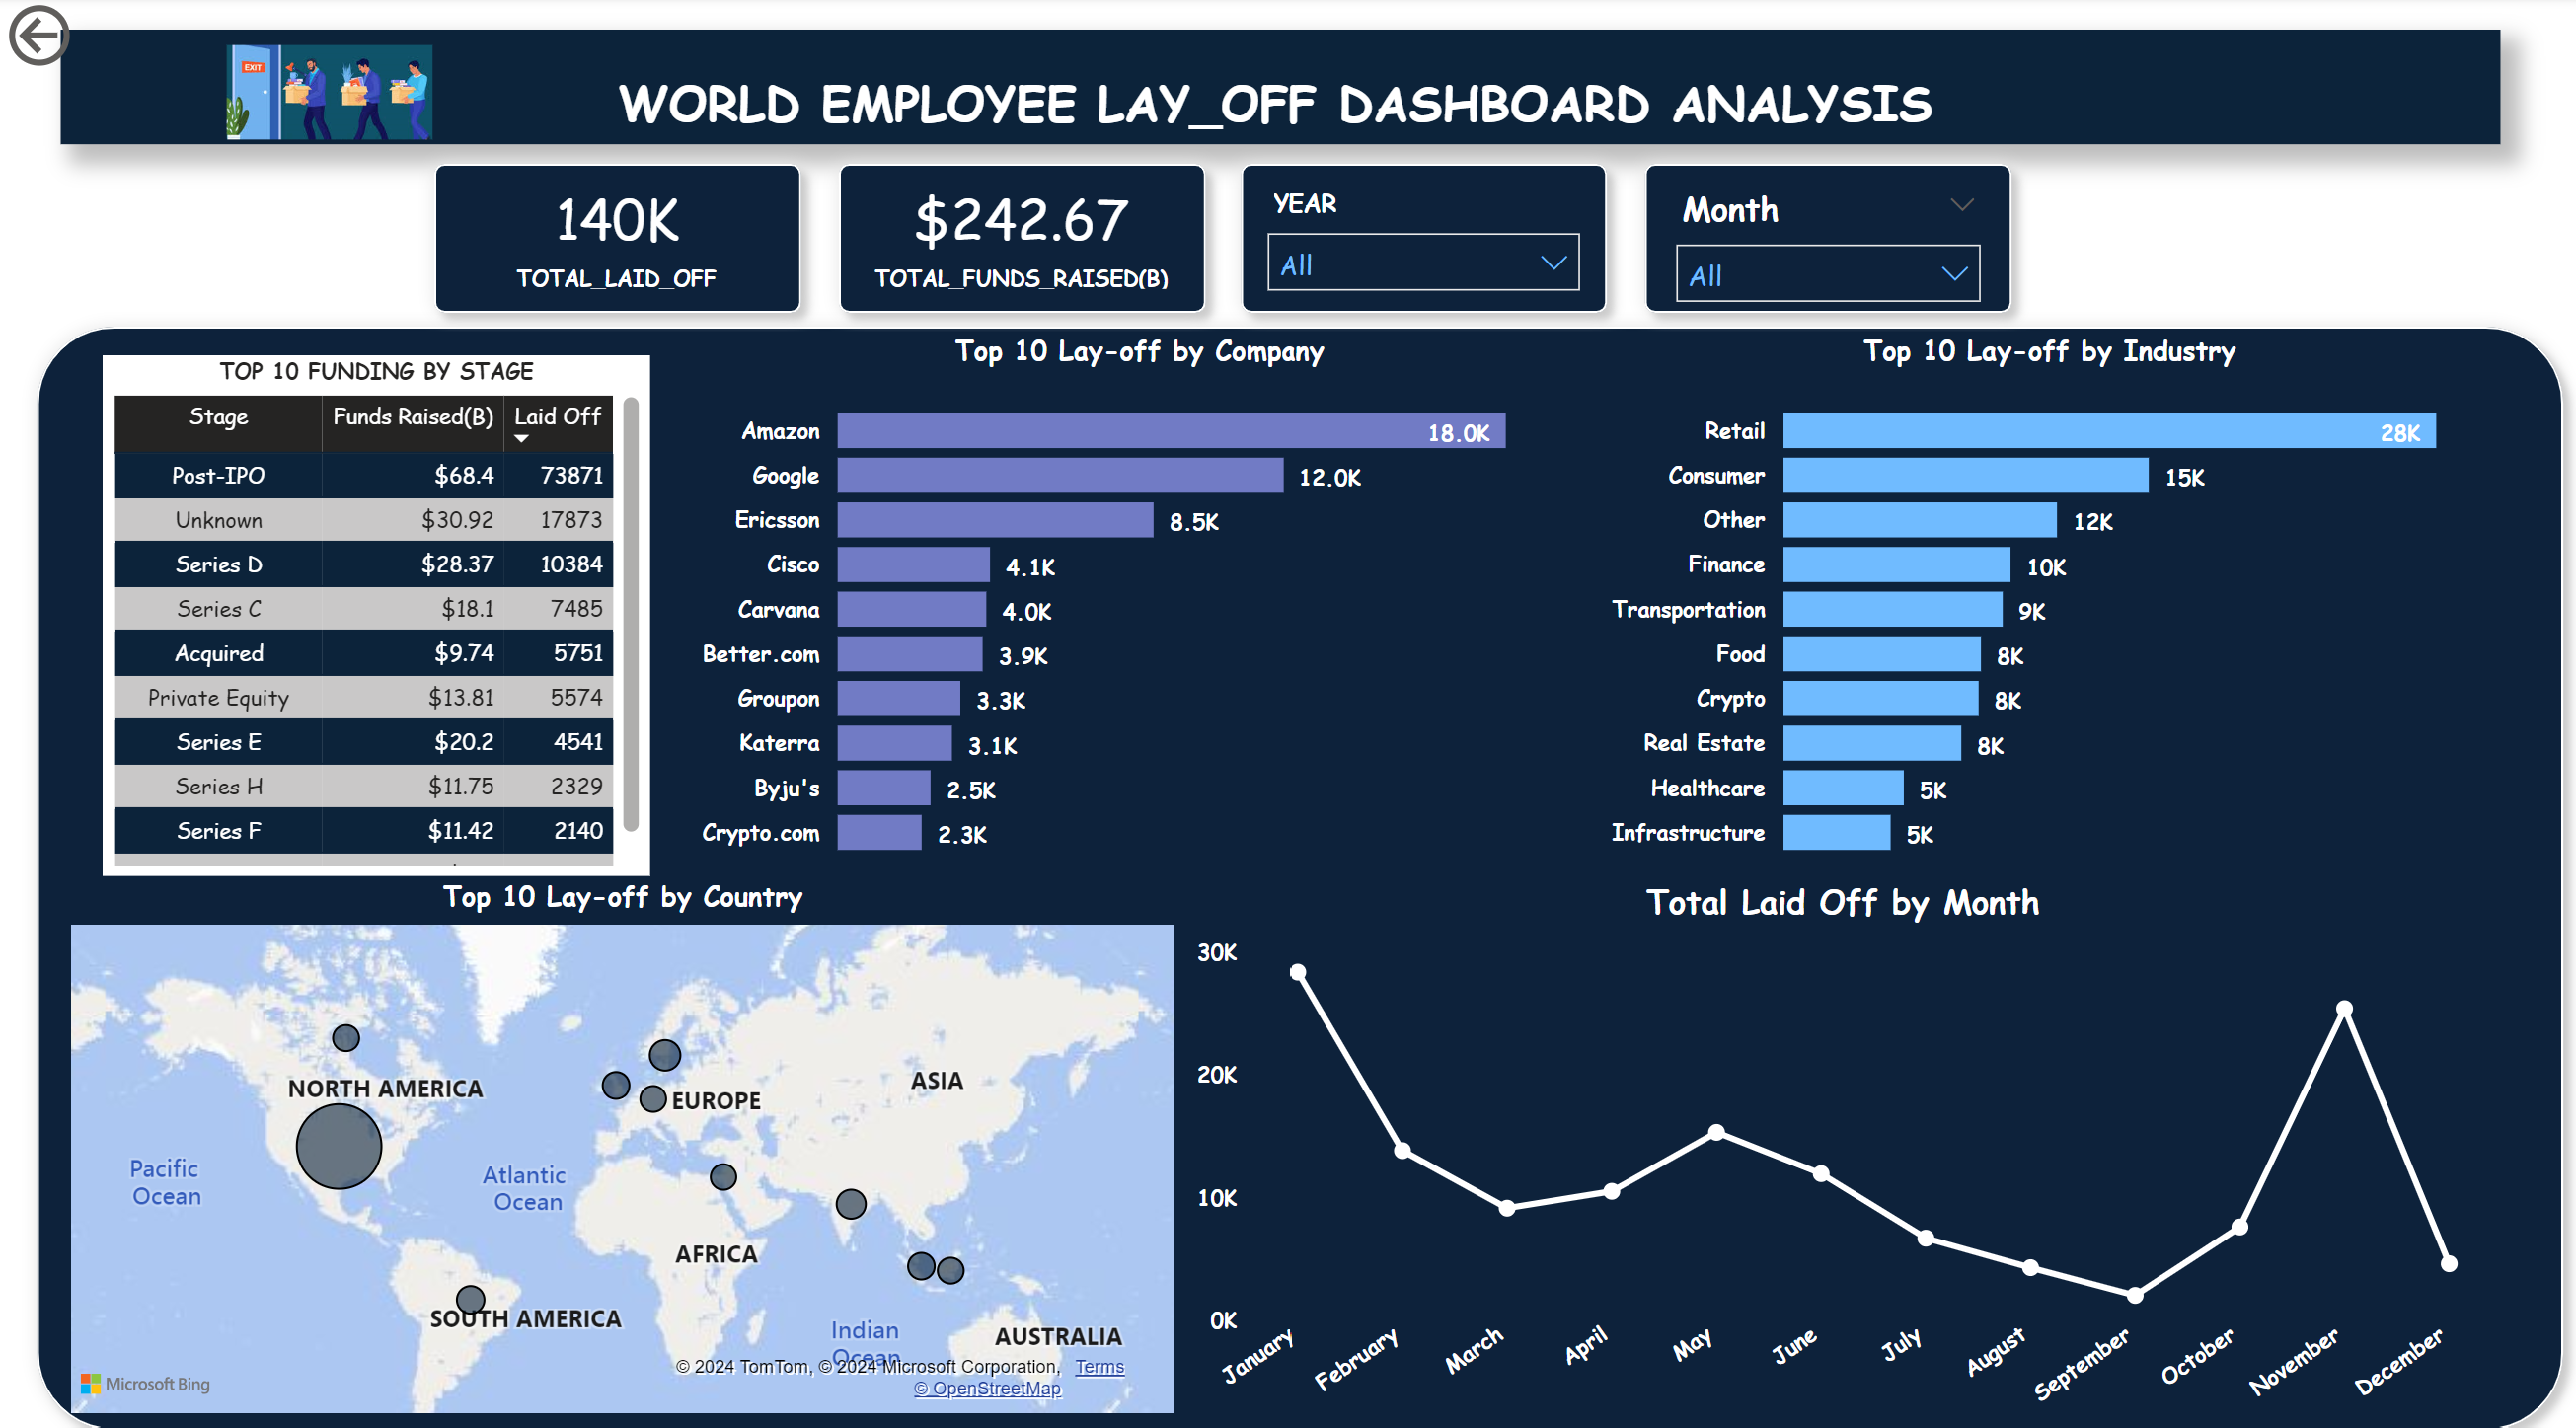

The page's visual inventory and layout, read from the dashboard file:
{"tool":"powerbi","page":{"name":"Employee_layoffs","canvas":[1280,720],"ordinal":0},"visuals":[{"type":"shape","box":[9.8,155.2,1270.1,564.8],"z":0},{"type":"textbox","box":[30.6,17.5,1209.1,56.9],"z":1},{"type":"shape","box":[207.1,74.4,199.8,91.9],"z":2},{"type":"shape","box":[406.9,74.4,199.8,91.9],"z":3},{"type":"shape","box":[606.7,74.4,199.8,91.9],"z":4},{"type":"shape","box":[806.6,74.4,199.8,91.9],"z":5},{"type":"card","fields":{"Values":["MeasuresTable.TOTAL_LAID_OFF"]},"box":[220.2,89,173.6,62.7],"z":6},{"type":"card","fields":{"Values":["MeasuresTable.TOTAL_FUNDS_RAISED_MILLIONS"]},"box":[423,89,164.8,62.7],"z":7},{"type":"slicer","fields":{"Values":["Calender_dim2.YEAR"]},"box":[618.4,89,175,62.7],"z":8},{"type":"slicer","fields":{"Values":["Calender_dim2.Month Name"]},"box":[821.2,89,170.6,62.7],"z":9},{"type":"image","box":[107.9,19,112.3,56.9],"z":10},{"type":"lineChart","title":"Total Laid Off by Month","fields":{"Y":["MeasuresTable.TOTAL_LAID_OFF"],"Category":["Calender_dim2.Month Name"]},"box":[587.8,437.6,652,269.8],"z":11},{"type":"barChart","title":"Top 10 Lay-off by Industry","fields":{"Category":["CLEANED_DATA_SET.industry"],"Y":["MeasuresTable.TOTAL_LAID_OFF"]},"box":[793.4,166.3,446.3,271.3],"z":12},{"type":"barChart","title":"Top 10 Lay-off by Company","fields":{"Category":["CLEANED_DATA_SET.company"],"Y":["MeasuresTable.TOTAL_LAID_OFF"]},"box":[342.8,166.3,446.3,271.3],"z":13},{"type":"map","title":"Top 10 Lay-off by Country","fields":{"Category":["CLEANED_DATA_SET.country"],"Size":["MeasuresTable.TOTAL_LAID_OFF"]},"box":[30.6,436.1,557.2,271.3],"z":14},{"type":"tableEx","title":"TOP 10 FUNDING BY STAGE","fields":{"Values":["CLEANED_DATA_SET.stage","MeasuresTable.TOTAL_FUNDS_RAISED"]},"box":[51,177.9,291.7,258.2],"z":15},{"type":"actionButton","box":[0,0,100,40],"z":16}]}

Visuals, with their boxes in screenshot pixels (x1, y1, x2, y2), scaled from the page's 1280x720 canvas onto the 2576x1428 screenshot:
shape: 20,308,2575,1427
textbox: 61,35,2495,148
shape: 417,148,819,330
shape: 819,148,1221,330
shape: 1221,148,1624,330
shape: 1624,148,2025,330
card - MeasuresTable.TOTAL_LAID_OFF: 443,177,793,301
card - MeasuresTable.TOTAL_FUNDS_RAISED_MILLIONS: 852,177,1183,301
slicer - Calender_dim2.YEAR: 1245,177,1597,301
slicer - Calender_dim2.Month Name: 1652,177,1996,301
image: 217,38,443,151
"Total Laid Off by Month" lineChart: 1183,867,2495,1403
"Top 10 Lay-off by Industry" barChart: 1597,330,2495,867
"Top 10 Lay-off by Company" barChart: 690,330,1588,867
"Top 10 Lay-off by Country" map: 61,864,1183,1403
"TOP 10 FUNDING BY STAGE" tableEx: 103,353,690,864
actionButton: 0,0,201,79
